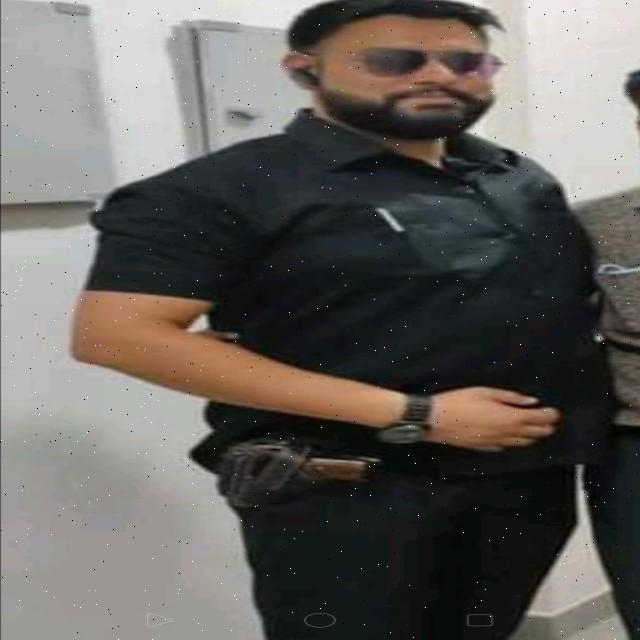gun: (226, 444, 388, 516)
